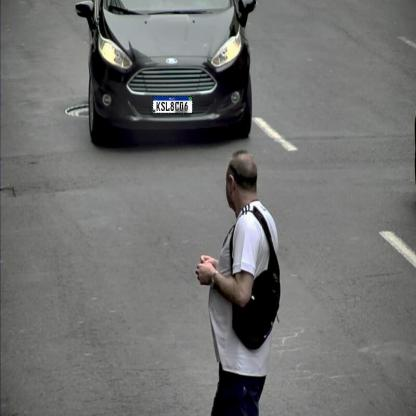PlacaM: (152, 96, 193, 113)
